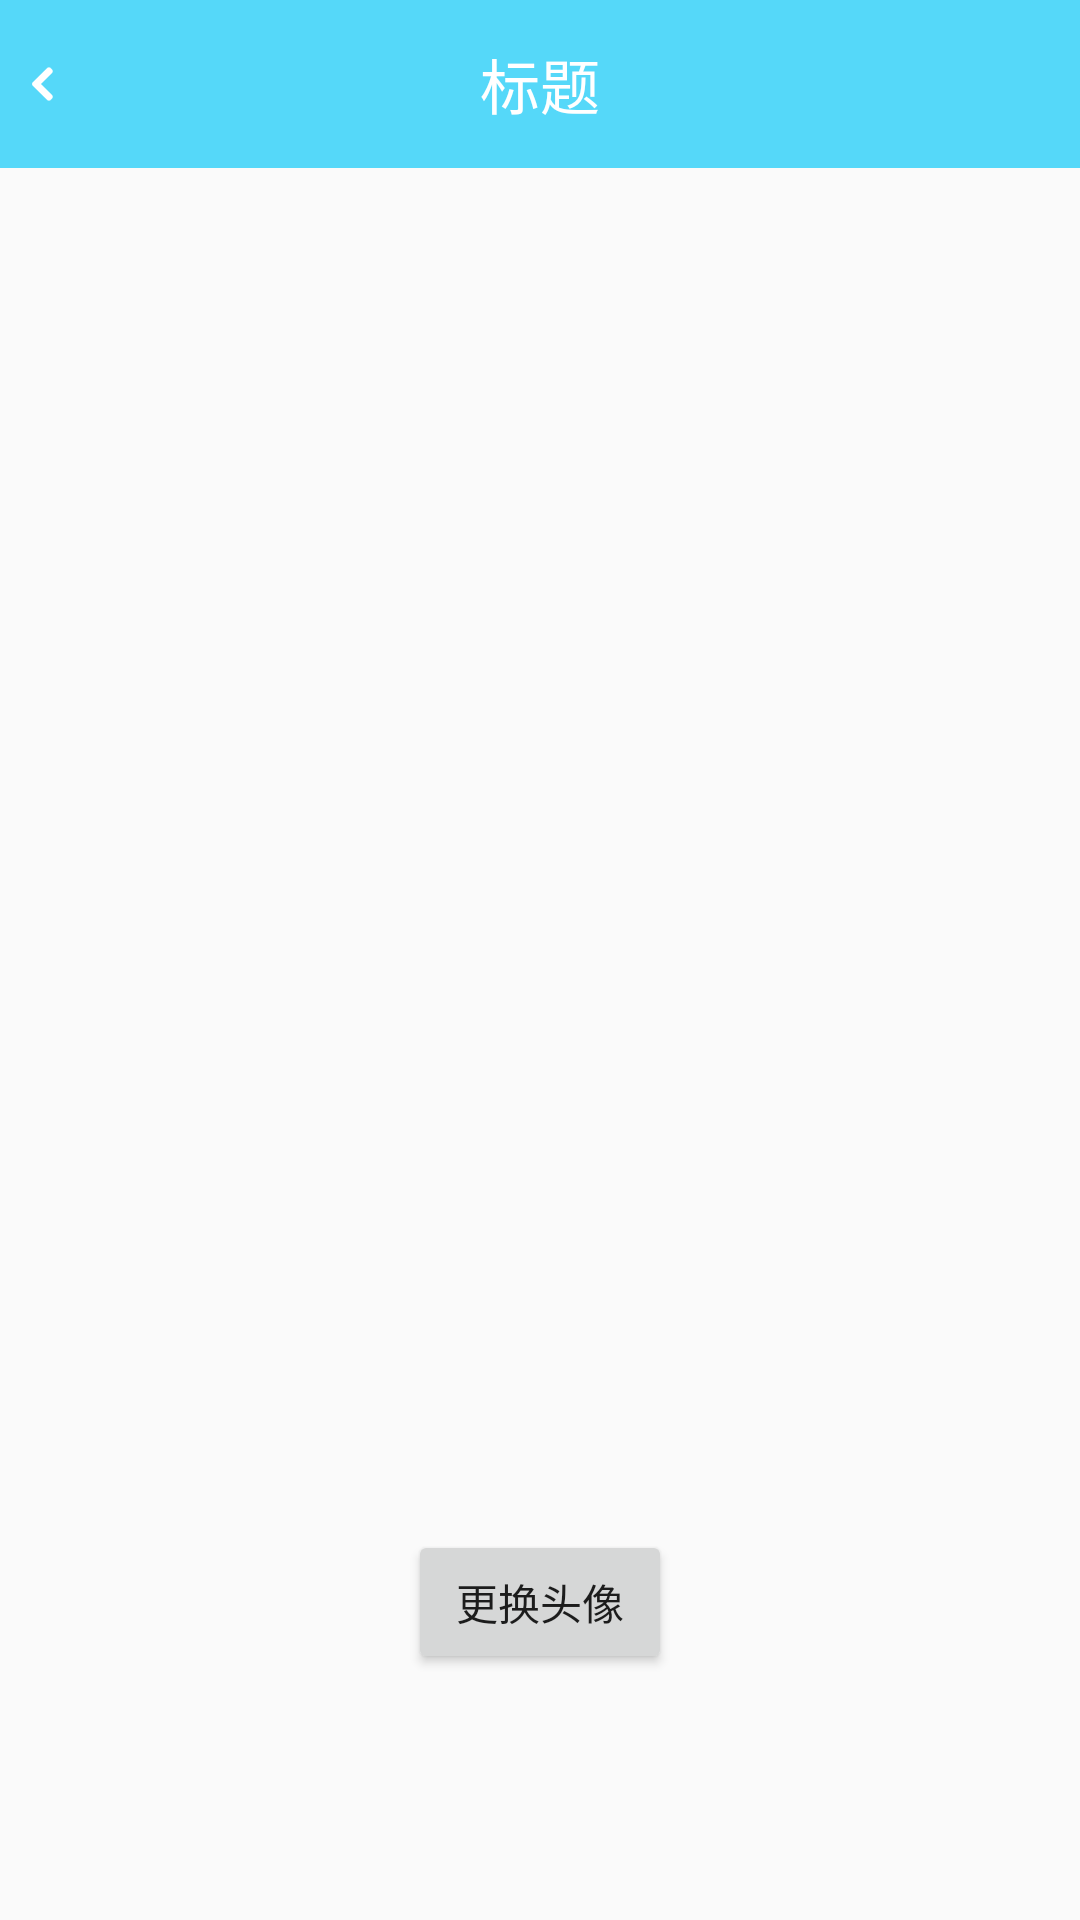

Where icons sit on this 1080 × 1920 app screen, as (x1, y1, x2, y2):
back: (32, 67, 53, 101)
